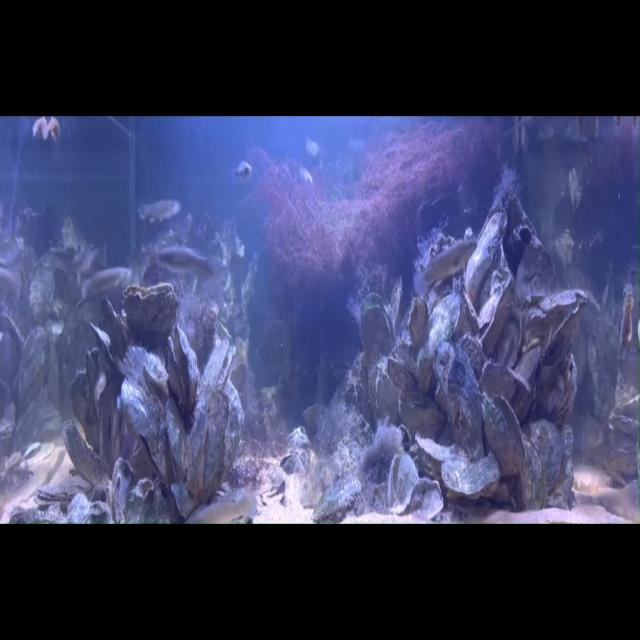Oyster-Closed: (185, 393, 241, 511), (361, 452, 449, 523), (120, 375, 169, 481), (466, 212, 510, 327), (418, 292, 461, 386), (443, 344, 484, 438), (534, 340, 577, 424), (525, 420, 569, 491), (17, 331, 52, 418), (442, 449, 501, 500), (481, 363, 528, 417), (398, 393, 446, 442), (162, 399, 189, 485), (224, 384, 245, 485), (492, 295, 520, 367), (201, 340, 236, 396), (133, 351, 172, 401), (57, 492, 112, 526), (100, 299, 128, 361), (523, 436, 546, 508), (39, 472, 89, 504), (417, 436, 466, 463), (510, 345, 547, 380), (88, 325, 116, 369), (386, 356, 414, 399), (409, 295, 429, 353), (0, 316, 23, 364), (458, 336, 485, 375)
Oyster-Open: (479, 393, 529, 506), (63, 379, 103, 477), (125, 283, 179, 350), (541, 292, 593, 352), (351, 290, 393, 360), (167, 327, 198, 421), (110, 456, 146, 523)
